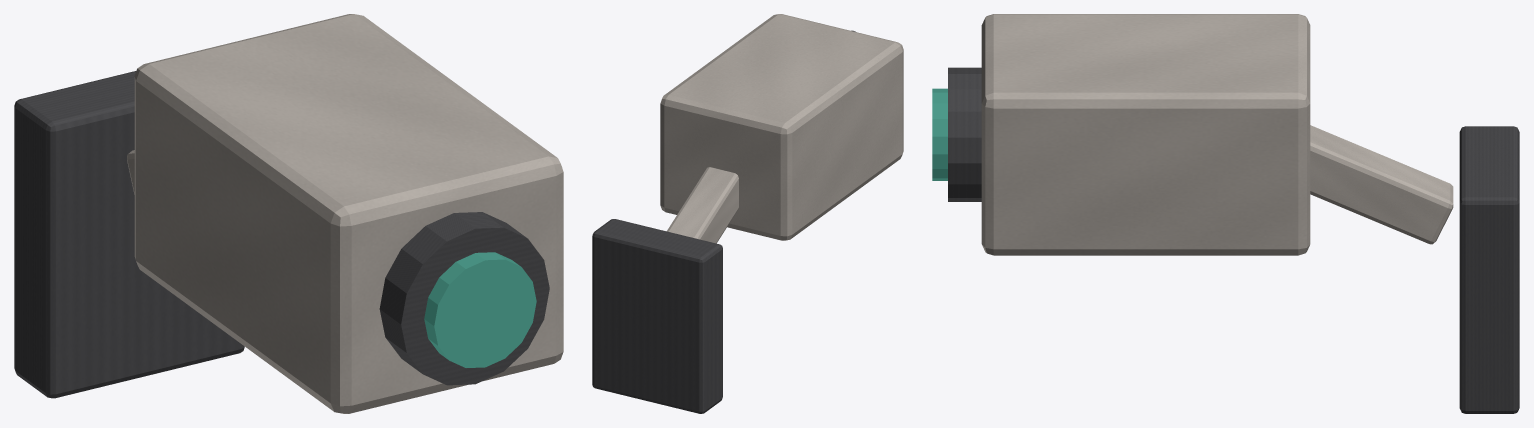
The model's file is security_camera.glb.
The picture shows the model from 3 angles, left to right: view 1: azimuth 30°, elevation 25°; view 2: azimuth 150°, elevation 25°; view 3: azimuth 270°, elevation 25°; orthographic projection. The views are drawn at different scales.
Visible parts, largest first — view 1: camera_body, wall_plate, lens, lens_glass; view 2: camera_body, wall_plate, arm; view 3: camera_body, wall_plate, arm, lens, lens_glass.
Part boxes in pixels (x1,y1,x2,y2): camera_body: [134, 14, 563, 413]; wall_plate: [14, 71, 244, 398]; lens: [379, 212, 549, 385]; lens_glass: [424, 252, 536, 367]; camera_body: [660, 14, 903, 240]; wall_plate: [592, 219, 722, 413]; arm: [667, 167, 738, 243]; camera_body: [981, 14, 1310, 255]; wall_plate: [1459, 126, 1519, 413]; arm: [1310, 125, 1453, 244]; lens: [948, 67, 981, 201]; lens_glass: [932, 88, 947, 180].
Bounding box in the file's own units: 0.14 × 0.24 × 0.393.
3 materials, 2 textured.
